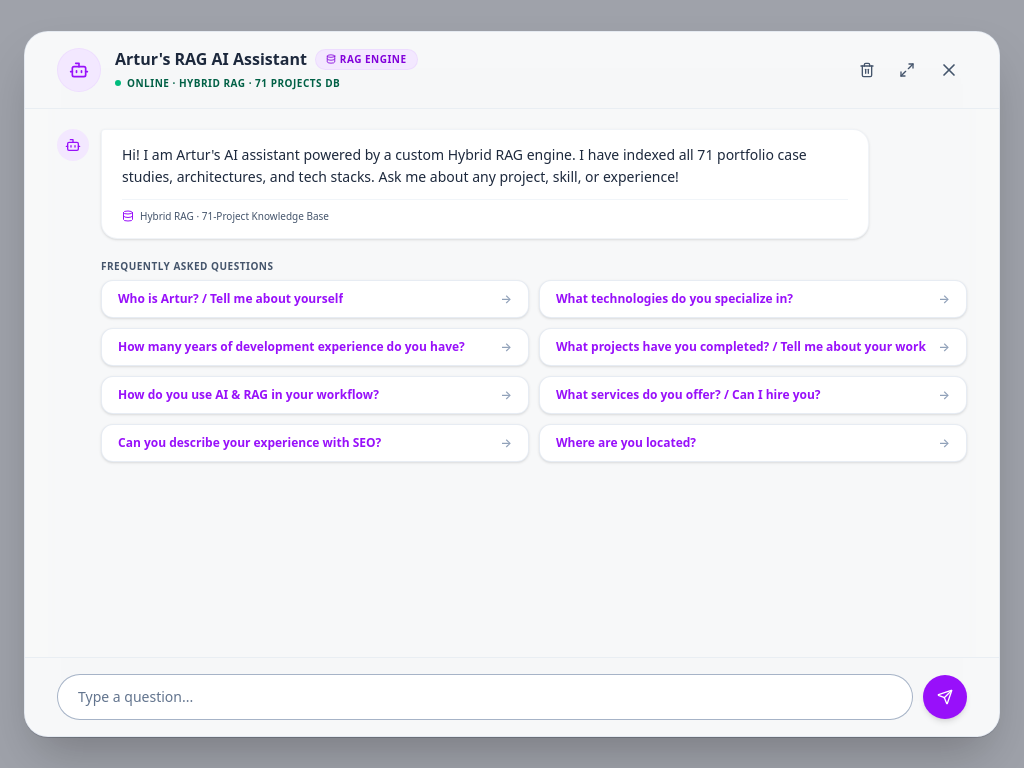
it: ChatModal Client-side Streaming & Fallback Specification (TDD) › should fall back to static FAQ engine if /api/chat fails
In the field with placeholder "Type a question...": x=485, y=697 top-left (78, 683), bottom-right (892, 711), type "What are your rates?"
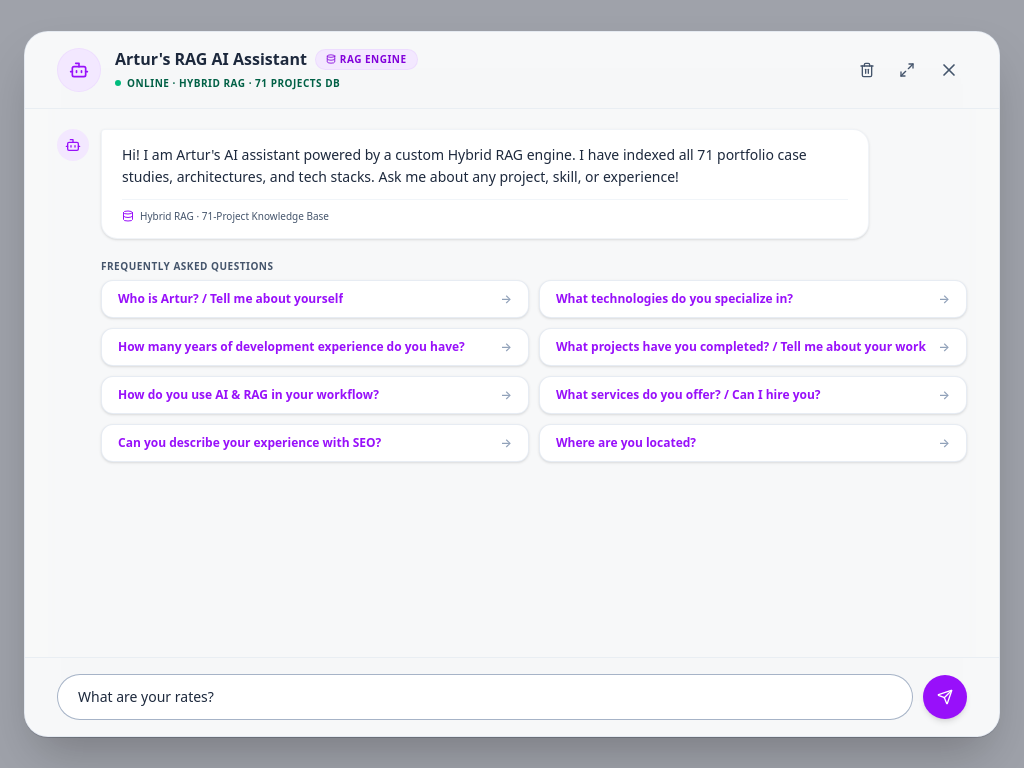
Click the button titled "Send": x=945, y=697 top-left (923, 675), bottom-right (967, 719)
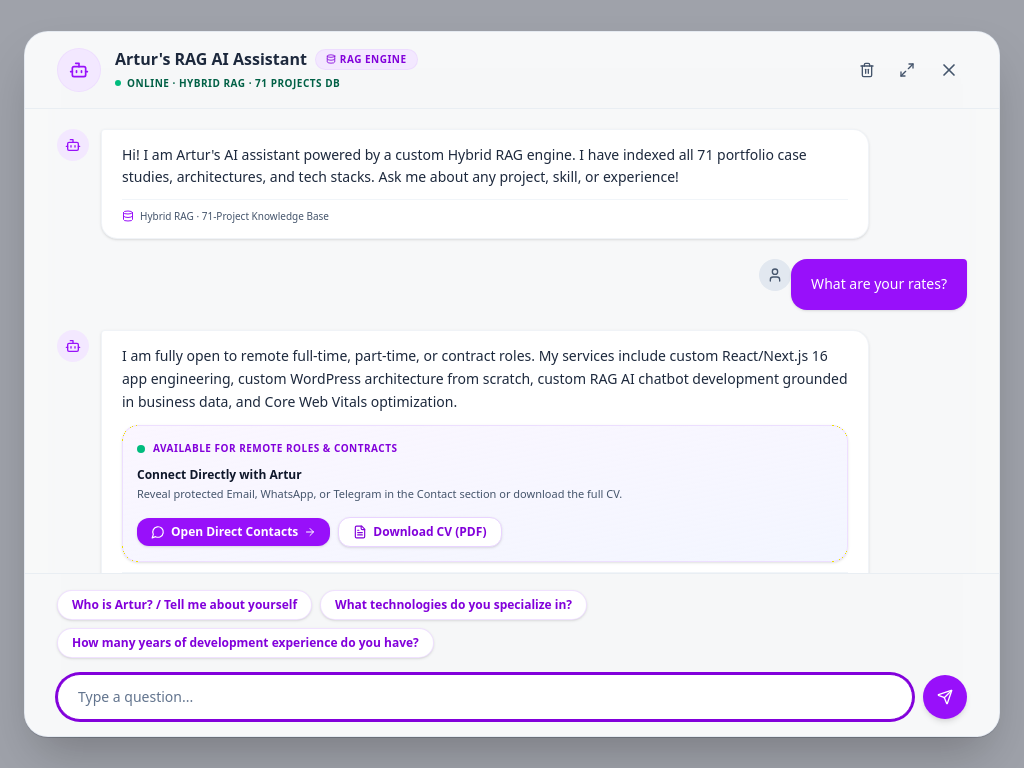
Now the text "Download CV (PDF)" is shown, box top-left (373, 524), bottom-right (486, 540)
